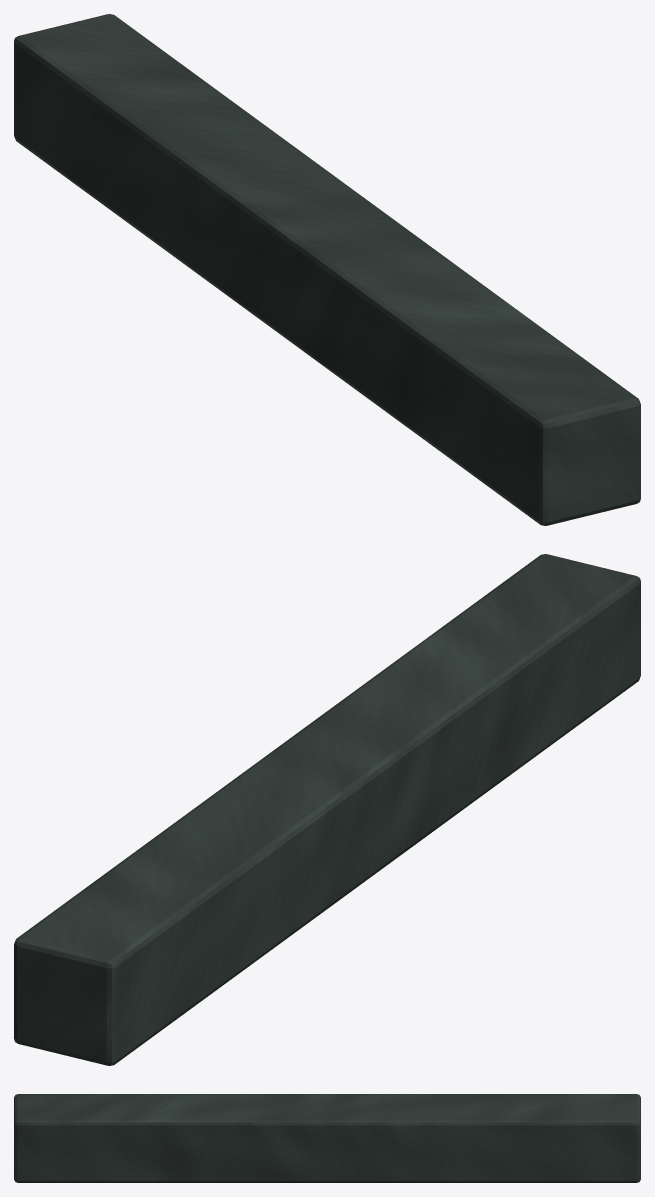
The model's file is lf_feed-lod2.gltf.
3 renders of one model, top to bottom at view 1: azimuth 30°, elevation 25°; view 2: azimuth 150°, elevation 25°; view 3: azimuth 270°, elevation 25°, orthographic. The views are drawn at different scales.
Visible parts, largest first — view 1: lf_feed LOD2 lf_feed; view 2: lf_feed LOD2 lf_feed; view 3: lf_feed LOD2 lf_feed.
Boxes of the visible parts, <box> form: lf_feed LOD2 lf_feed: <box>14,14,640,525</box>; lf_feed LOD2 lf_feed: <box>14,554,640,1065</box>; lf_feed LOD2 lf_feed: <box>14,1094,640,1182</box>.
Bounding box in the file's own units: 0.11 × 0.11 × 1.
1 material, 1 textured.
